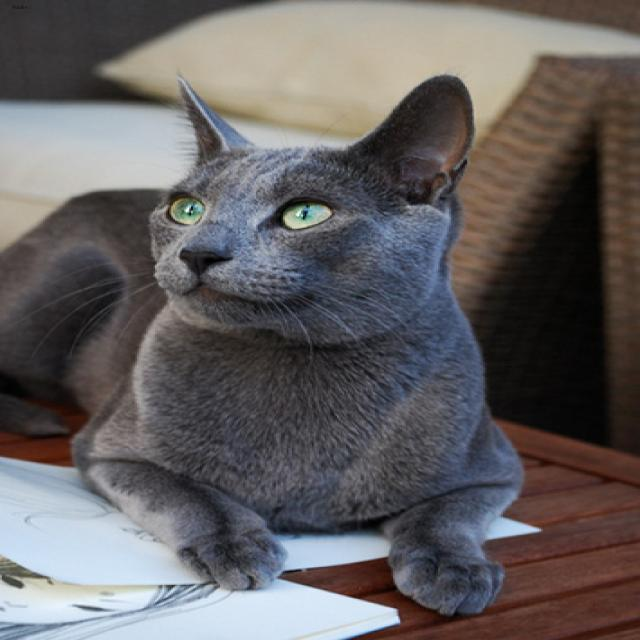Russian_Blue: (148, 75, 469, 327)
